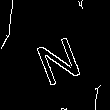N_N: (29, 23, 85, 85)
